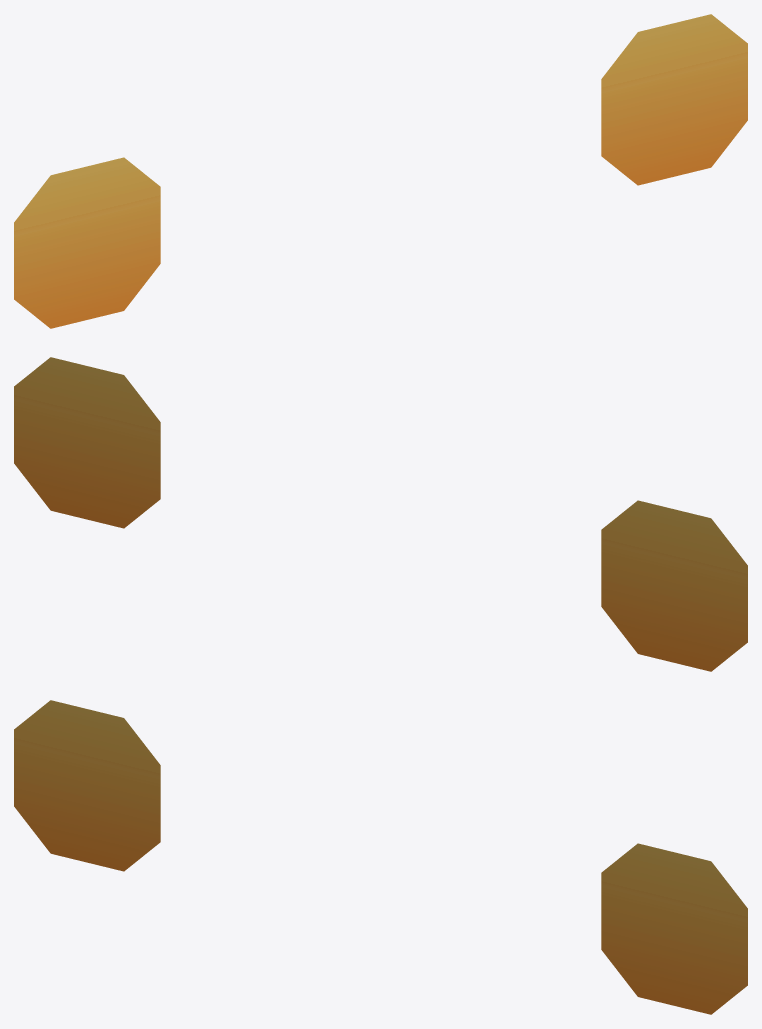
Rendered from coaster-mouse-cap-back.glb.
3 renders of one model, top to bottom at view 1: azimuth 30°, elevation 25°; view 2: azimuth 150°, elevation 25°; view 3: azimuth 330°, elevation 25°, orthographic.
Parts seen in each view (by area): view 1: coaster-mouse-cap-back; view 2: coaster-mouse-cap-back; view 3: coaster-mouse-cap-back.
Boxes of the visible parts, bbox=[...] form: coaster-mouse-cap-back: bbox=[14, 14, 747, 328]; coaster-mouse-cap-back: bbox=[14, 357, 747, 671]; coaster-mouse-cap-back: bbox=[14, 700, 747, 1014].
Size of the model in its own units: 0.5 by 0.1 by 0.
1 material, 1 textured.
